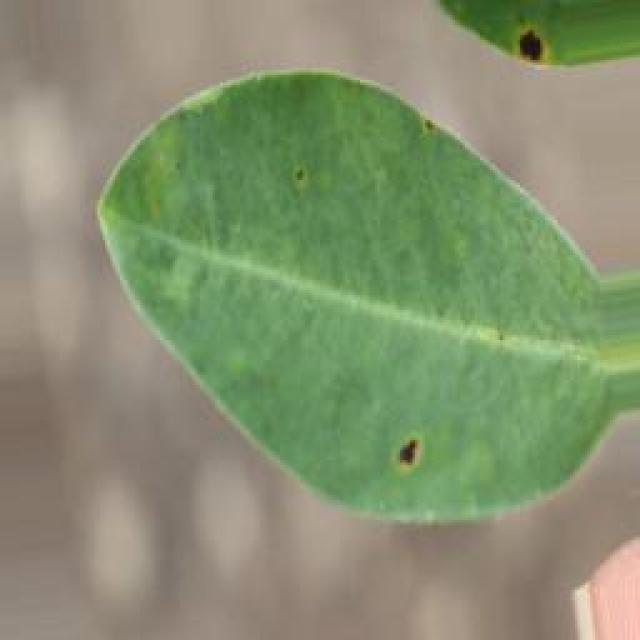Yellowish: (317, 380, 449, 503), (258, 140, 352, 230), (398, 86, 472, 186), (492, 0, 560, 91)
